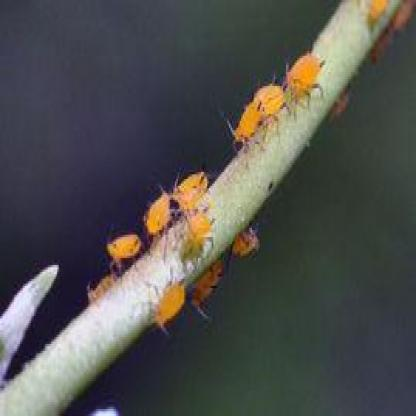aphid: (278, 48, 330, 115), (173, 201, 220, 269), (188, 259, 230, 323), (145, 277, 190, 334), (226, 91, 269, 144), (251, 78, 292, 130), (172, 162, 212, 210), (142, 185, 170, 243), (103, 227, 144, 265), (230, 220, 262, 266), (383, 0, 416, 42), (358, 0, 393, 28)
